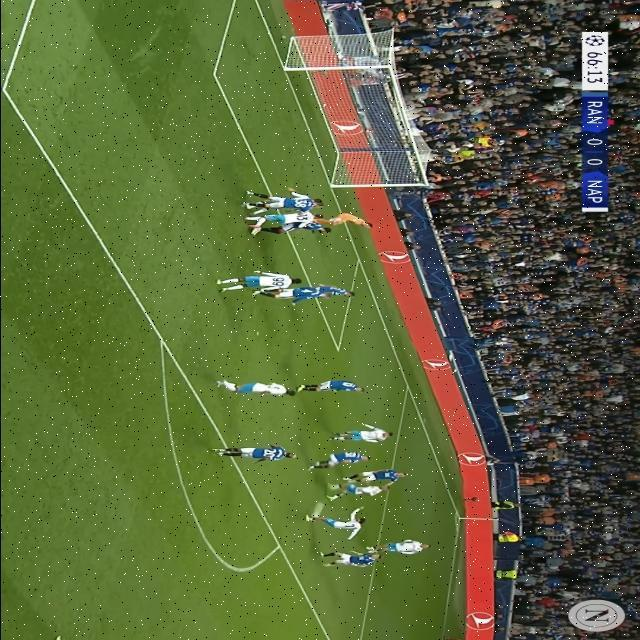ball: (304, 505, 328, 519)
goalkeeper: (316, 212, 382, 232)
player: (210, 269, 301, 297), (209, 442, 297, 465), (230, 208, 319, 230), (263, 283, 328, 313), (247, 222, 333, 244), (293, 450, 371, 474), (211, 378, 294, 400), (297, 512, 375, 534), (317, 426, 405, 445), (295, 283, 363, 307), (242, 193, 322, 213), (332, 467, 410, 487), (365, 537, 435, 555), (323, 482, 387, 500), (315, 551, 379, 569), (296, 380, 366, 396)
